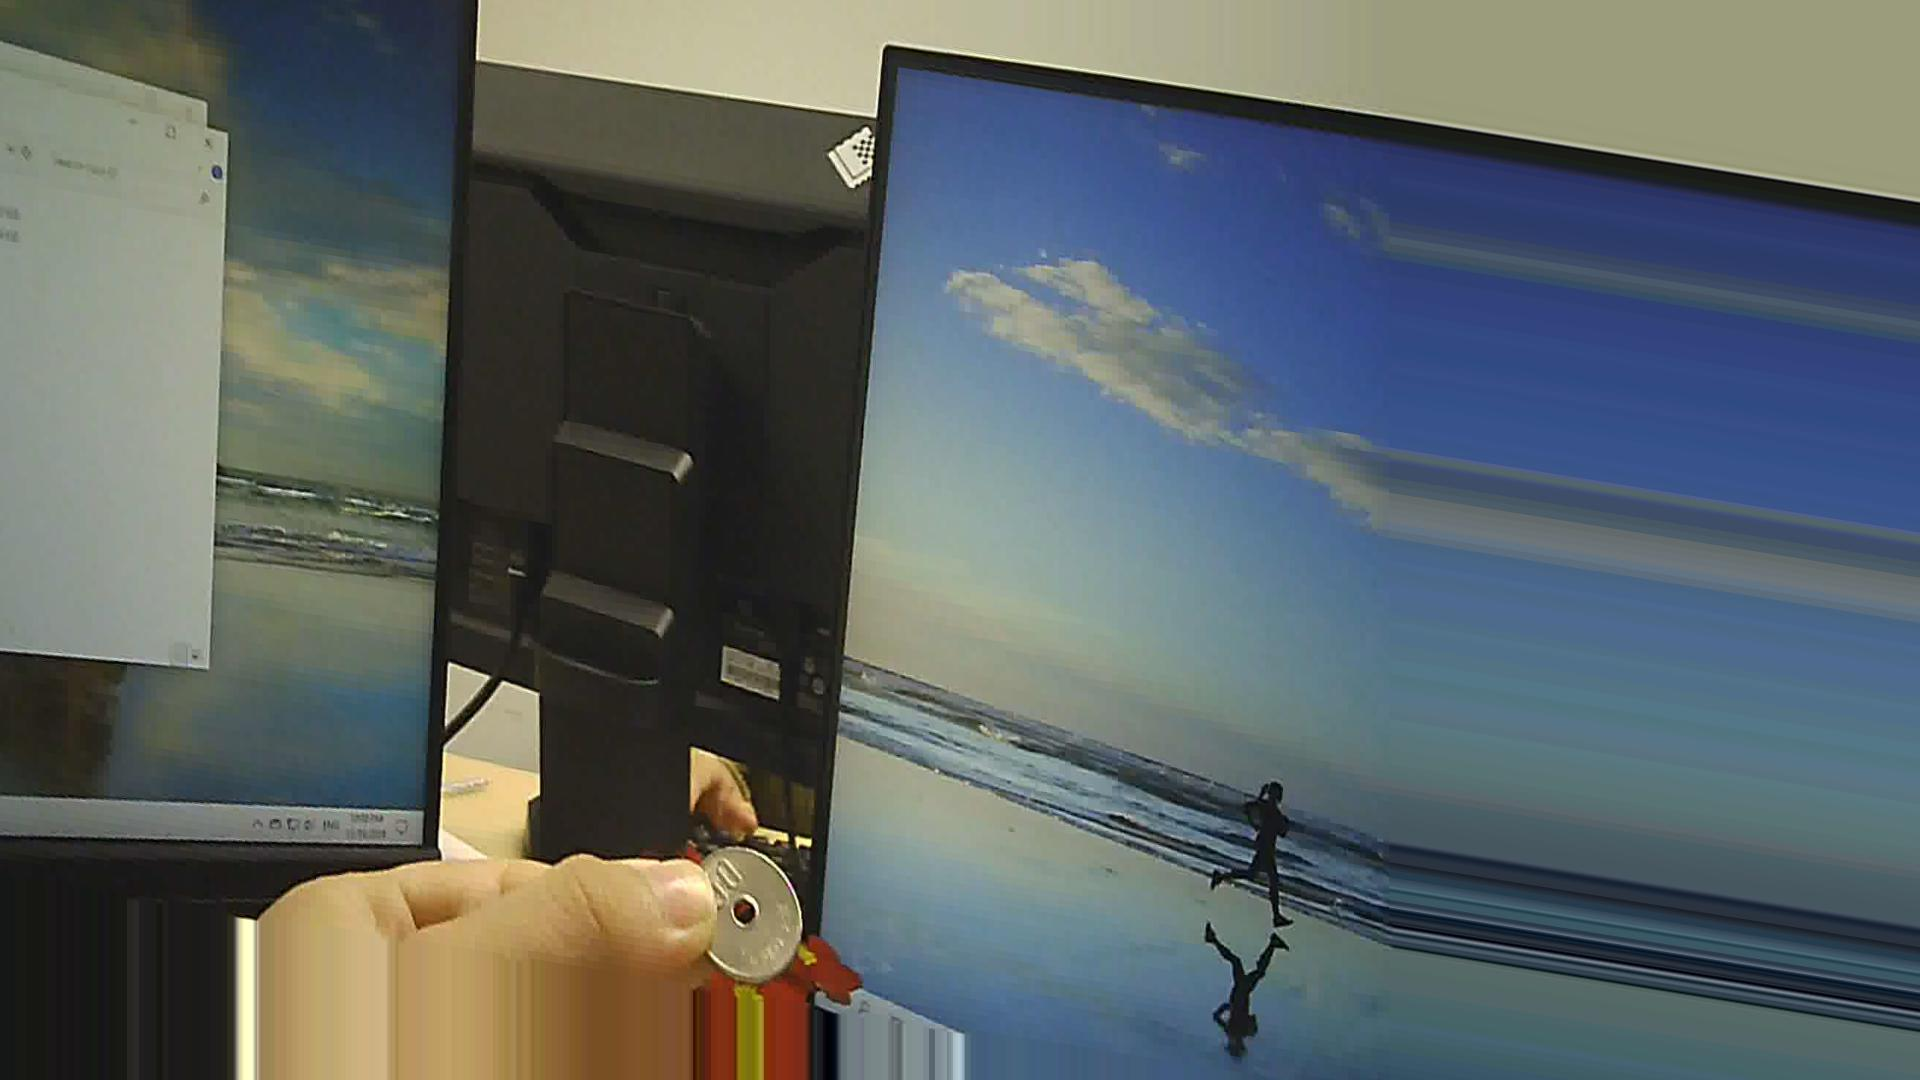50 Yen: (684, 829, 819, 989)
